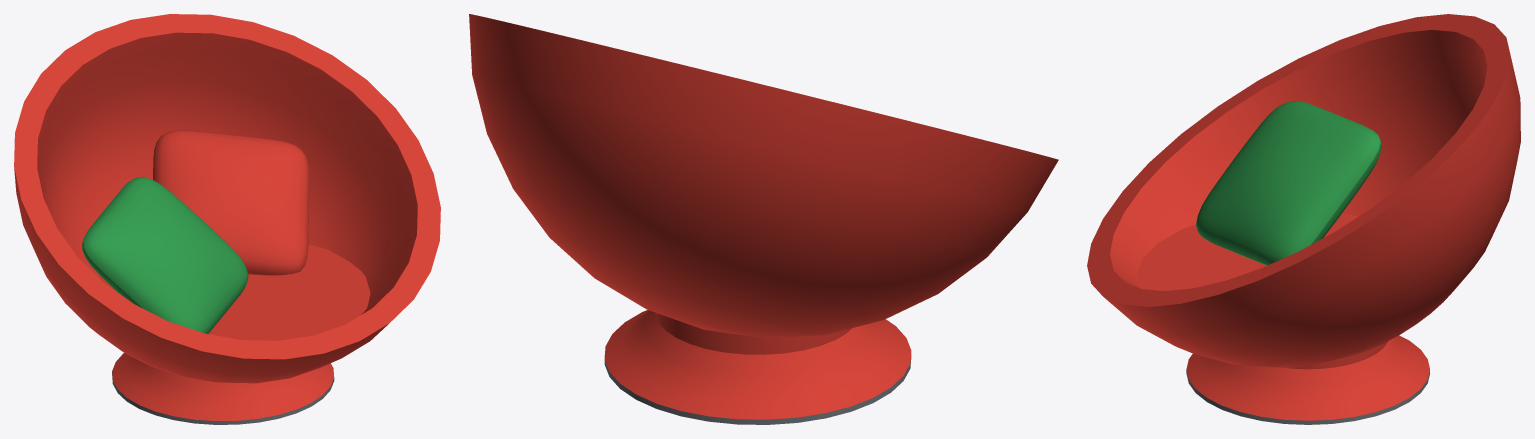
Rendered from Couch.glb.
The picture shows the model from 3 angles, left to right: view 1: azimuth 30°, elevation 25°; view 2: azimuth 150°, elevation 25°; view 3: azimuth 270°, elevation 25°; orthographic projection. The views are drawn at different scales.
Visible parts, largest first — view 1: Couch; view 2: Couch; view 3: Couch.
Boxes of the visible parts, x1,y1,x2,y2 form: Couch: (14, 14, 440, 424); Couch: (469, 14, 1058, 424); Couch: (1087, 14, 1520, 424).
Size of the model in its own units: 1.43 by 1.04 by 1.28.
